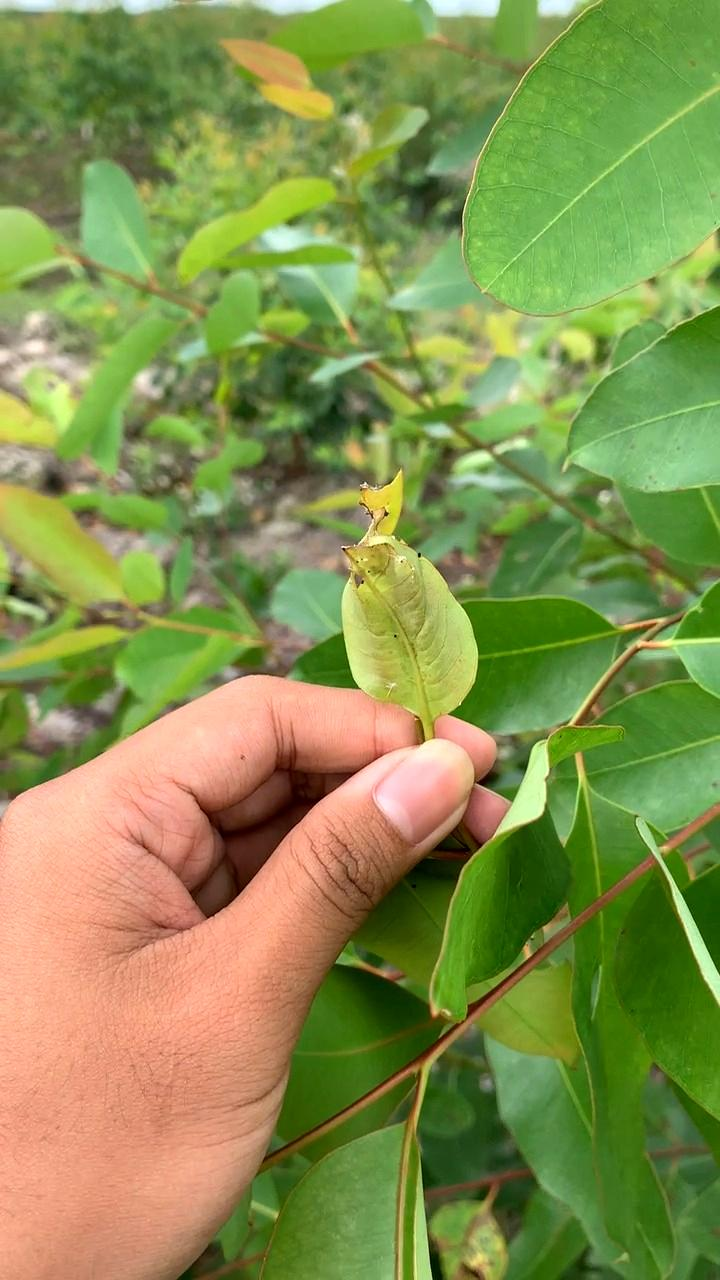Leaf Roller - Leaf: (333, 488, 487, 741)
